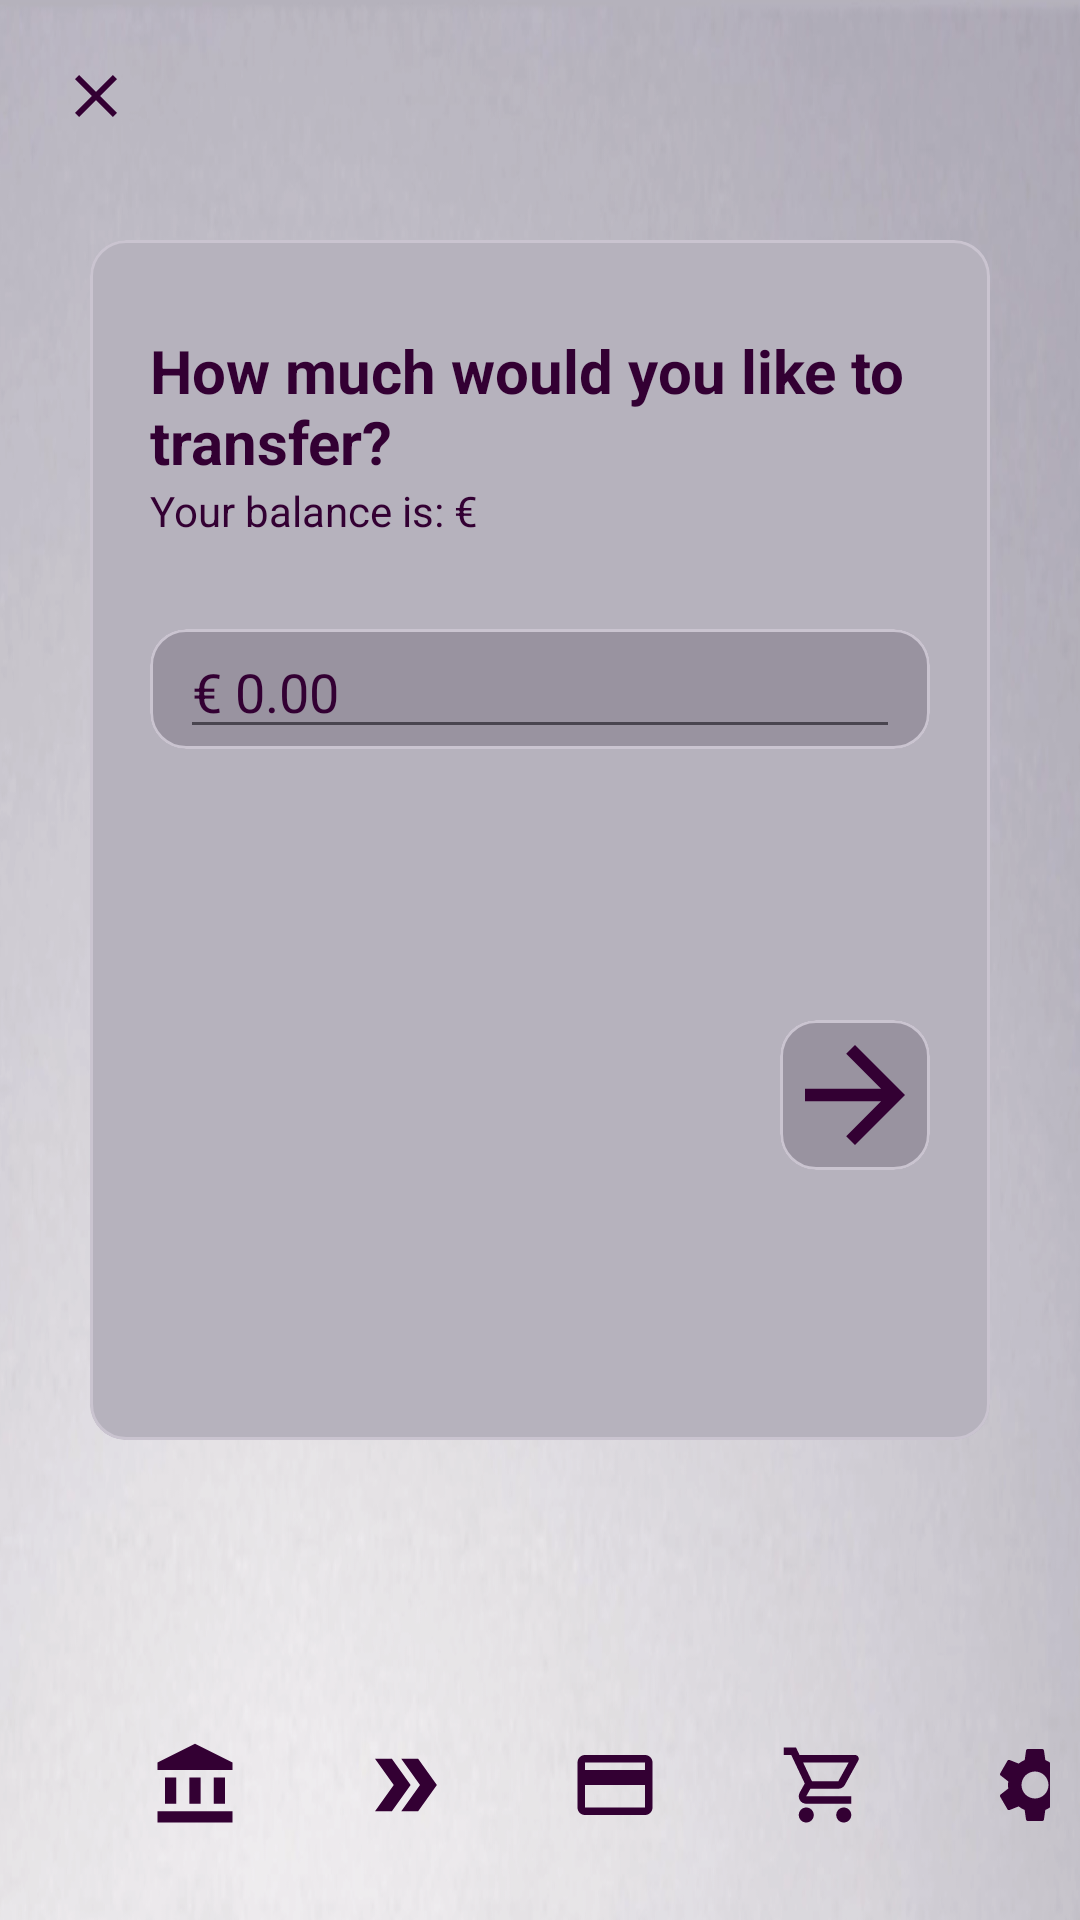

Icon click points for this 1080w x 1920h phone screenshot, format point (x, y):
Balance Page Icon: point (195, 1783)
cards icon: point (615, 1785)
Closing arrow back to main menu: point (96, 96)
Confirmation Arrow: point (855, 1095)
products icon: point (821, 1785)
Transfers Icon: point (406, 1785)
